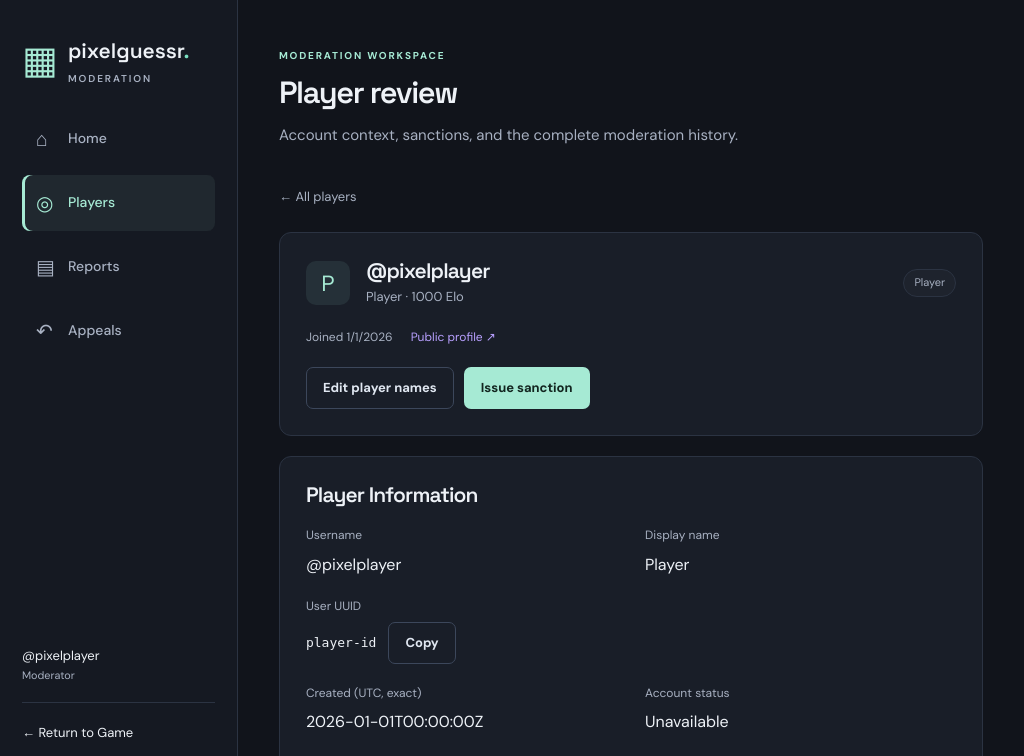
it: edits only changed names and refreshes stable player details: {"username":"renamed"}
Click the button "Edit player names".
click(380, 388)  # box [306,367,454,409]
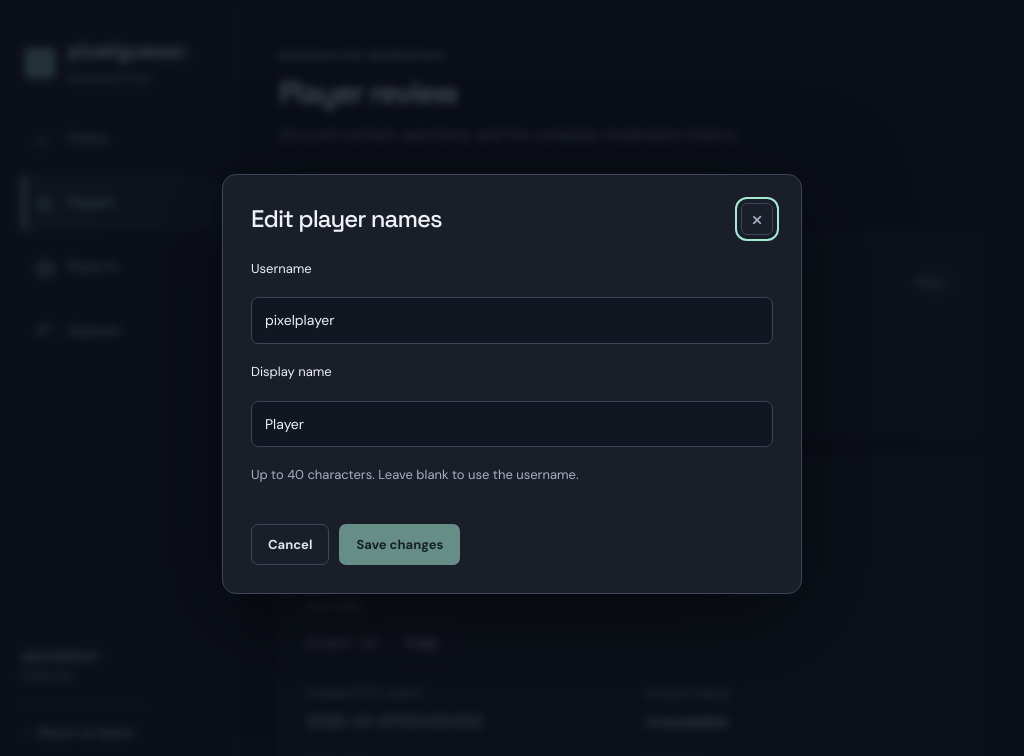
Check: the field labelled "Username" holds "pixelplayer", box [251,298,773,344]
Check: the field labelled "Display name" holds "Player", box [251,401,773,447]
Check: the button "Save changes" is disabled, box [339,524,460,565]
Submit the form named "Save changes", box [251,259,773,565]
Replace the text in the field labelled "Username" with "renamed" at (512,321), box [251,298,773,344]
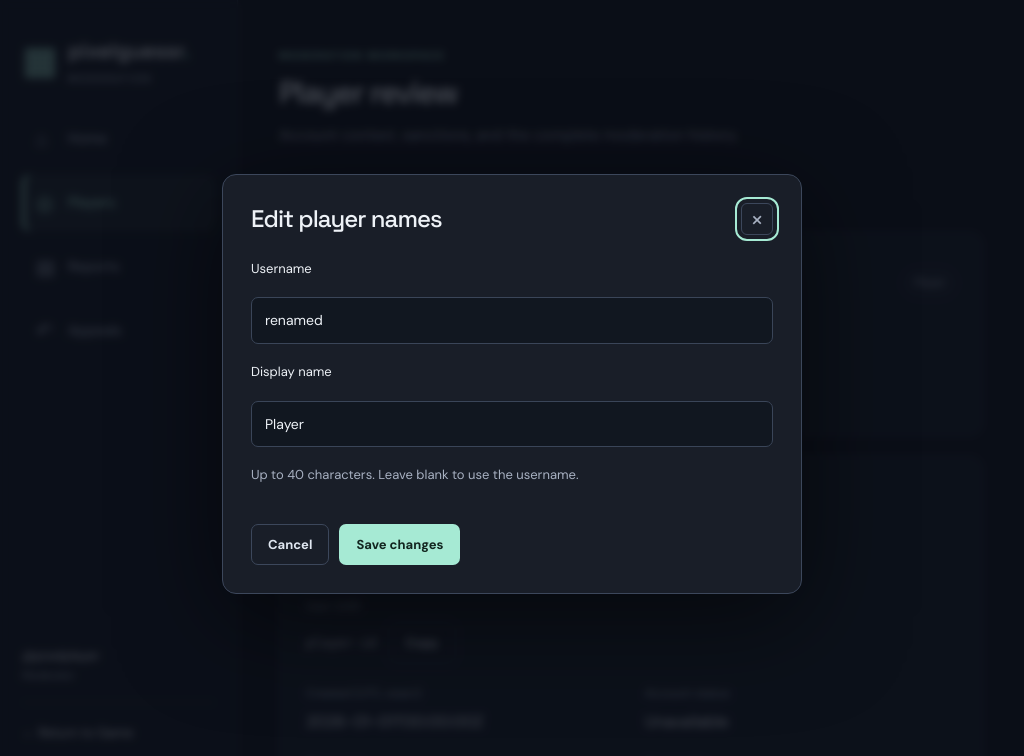
Click the button "Save changes".
click(400, 545)  # box [339,524,460,565]
(page scrolled)
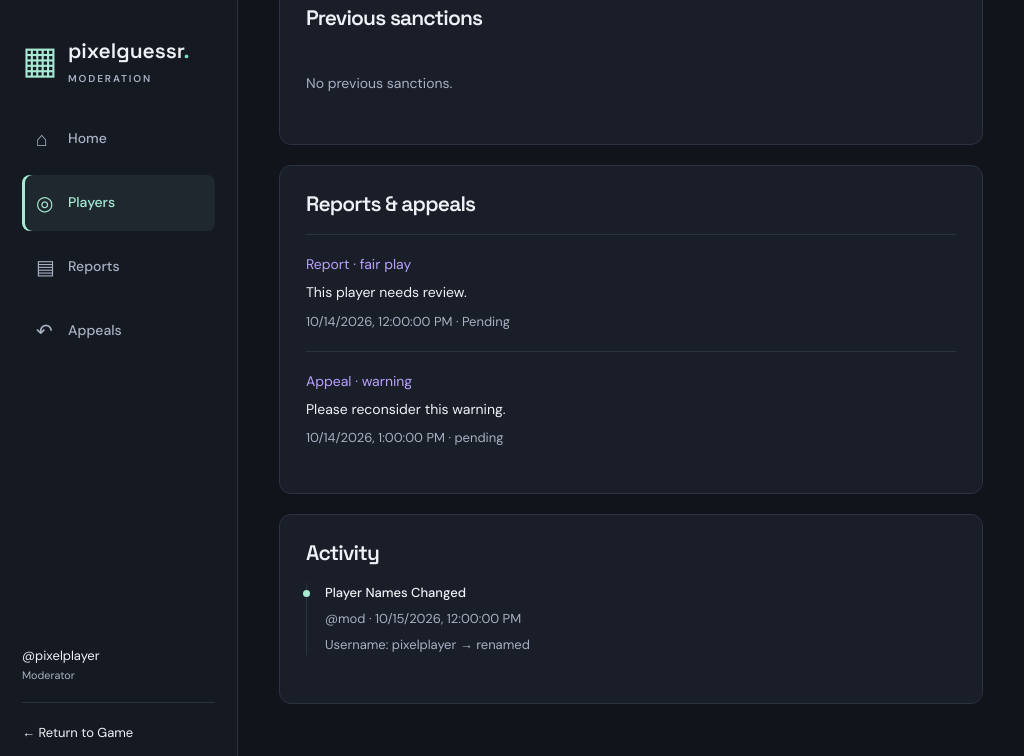
Check: the dialog is gone
Check: the text "player names changed" is shown, box [325,584,466,601]
